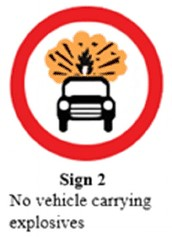Traffic signal: (10, 5, 165, 162)
